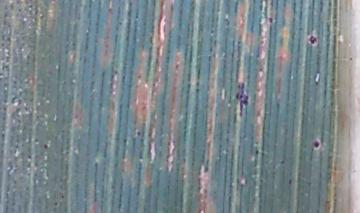tarspot: (235, 82, 248, 118), (312, 139, 321, 150), (309, 35, 317, 45), (253, 148, 261, 156), (42, 143, 50, 150), (268, 15, 274, 24), (137, 129, 142, 138), (52, 201, 59, 207), (61, 193, 65, 199)
